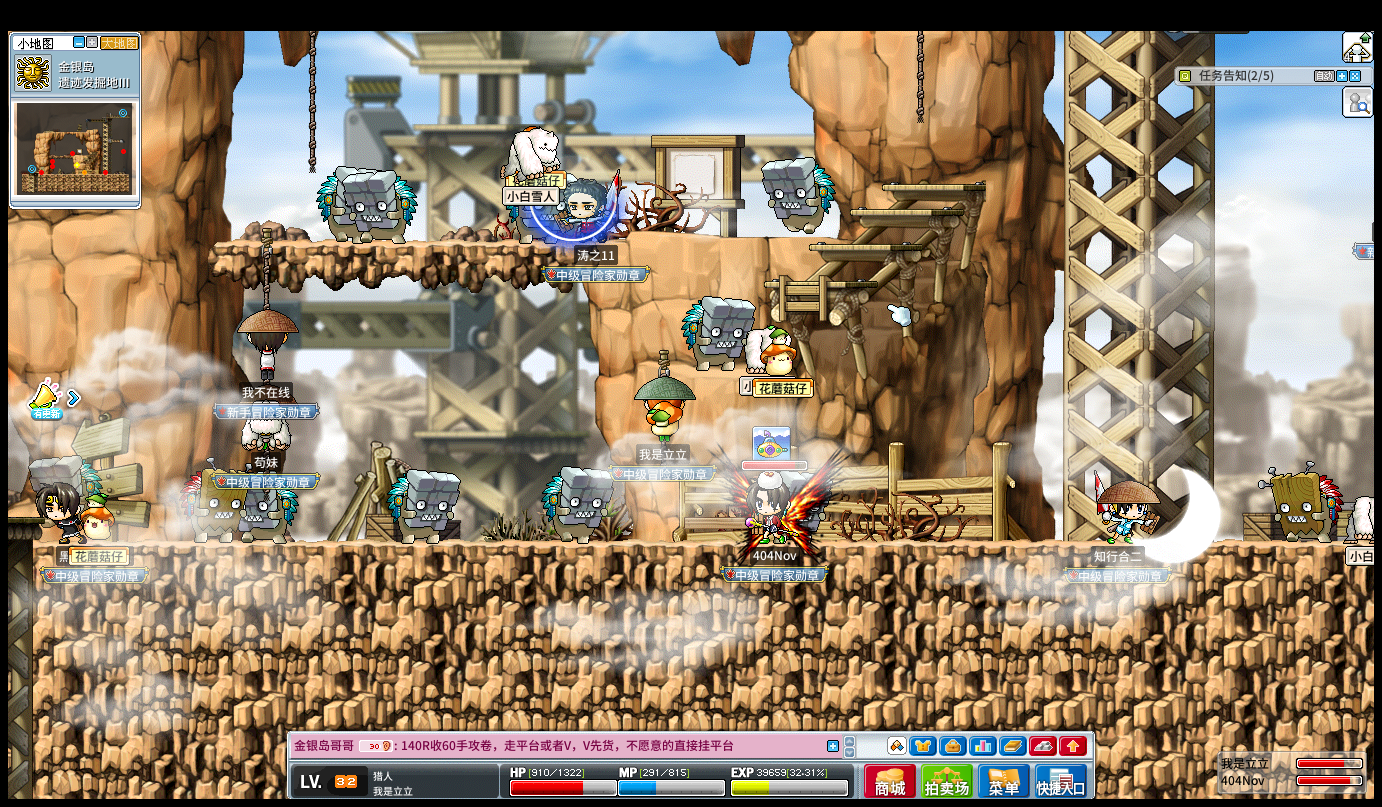floor: (33, 538, 1371, 556), (207, 238, 579, 255), (594, 227, 844, 245), (760, 277, 880, 292), (807, 240, 925, 255), (849, 206, 966, 219), (881, 182, 986, 196)
monster: (1258, 462, 1345, 544), (761, 158, 836, 234), (541, 467, 614, 545), (388, 469, 461, 544), (682, 296, 755, 371), (180, 463, 247, 543), (343, 173, 417, 243), (242, 470, 300, 545), (28, 455, 102, 485), (317, 167, 343, 243)
rope: (307, 32, 318, 174), (915, 31, 926, 125), (261, 228, 273, 310)
